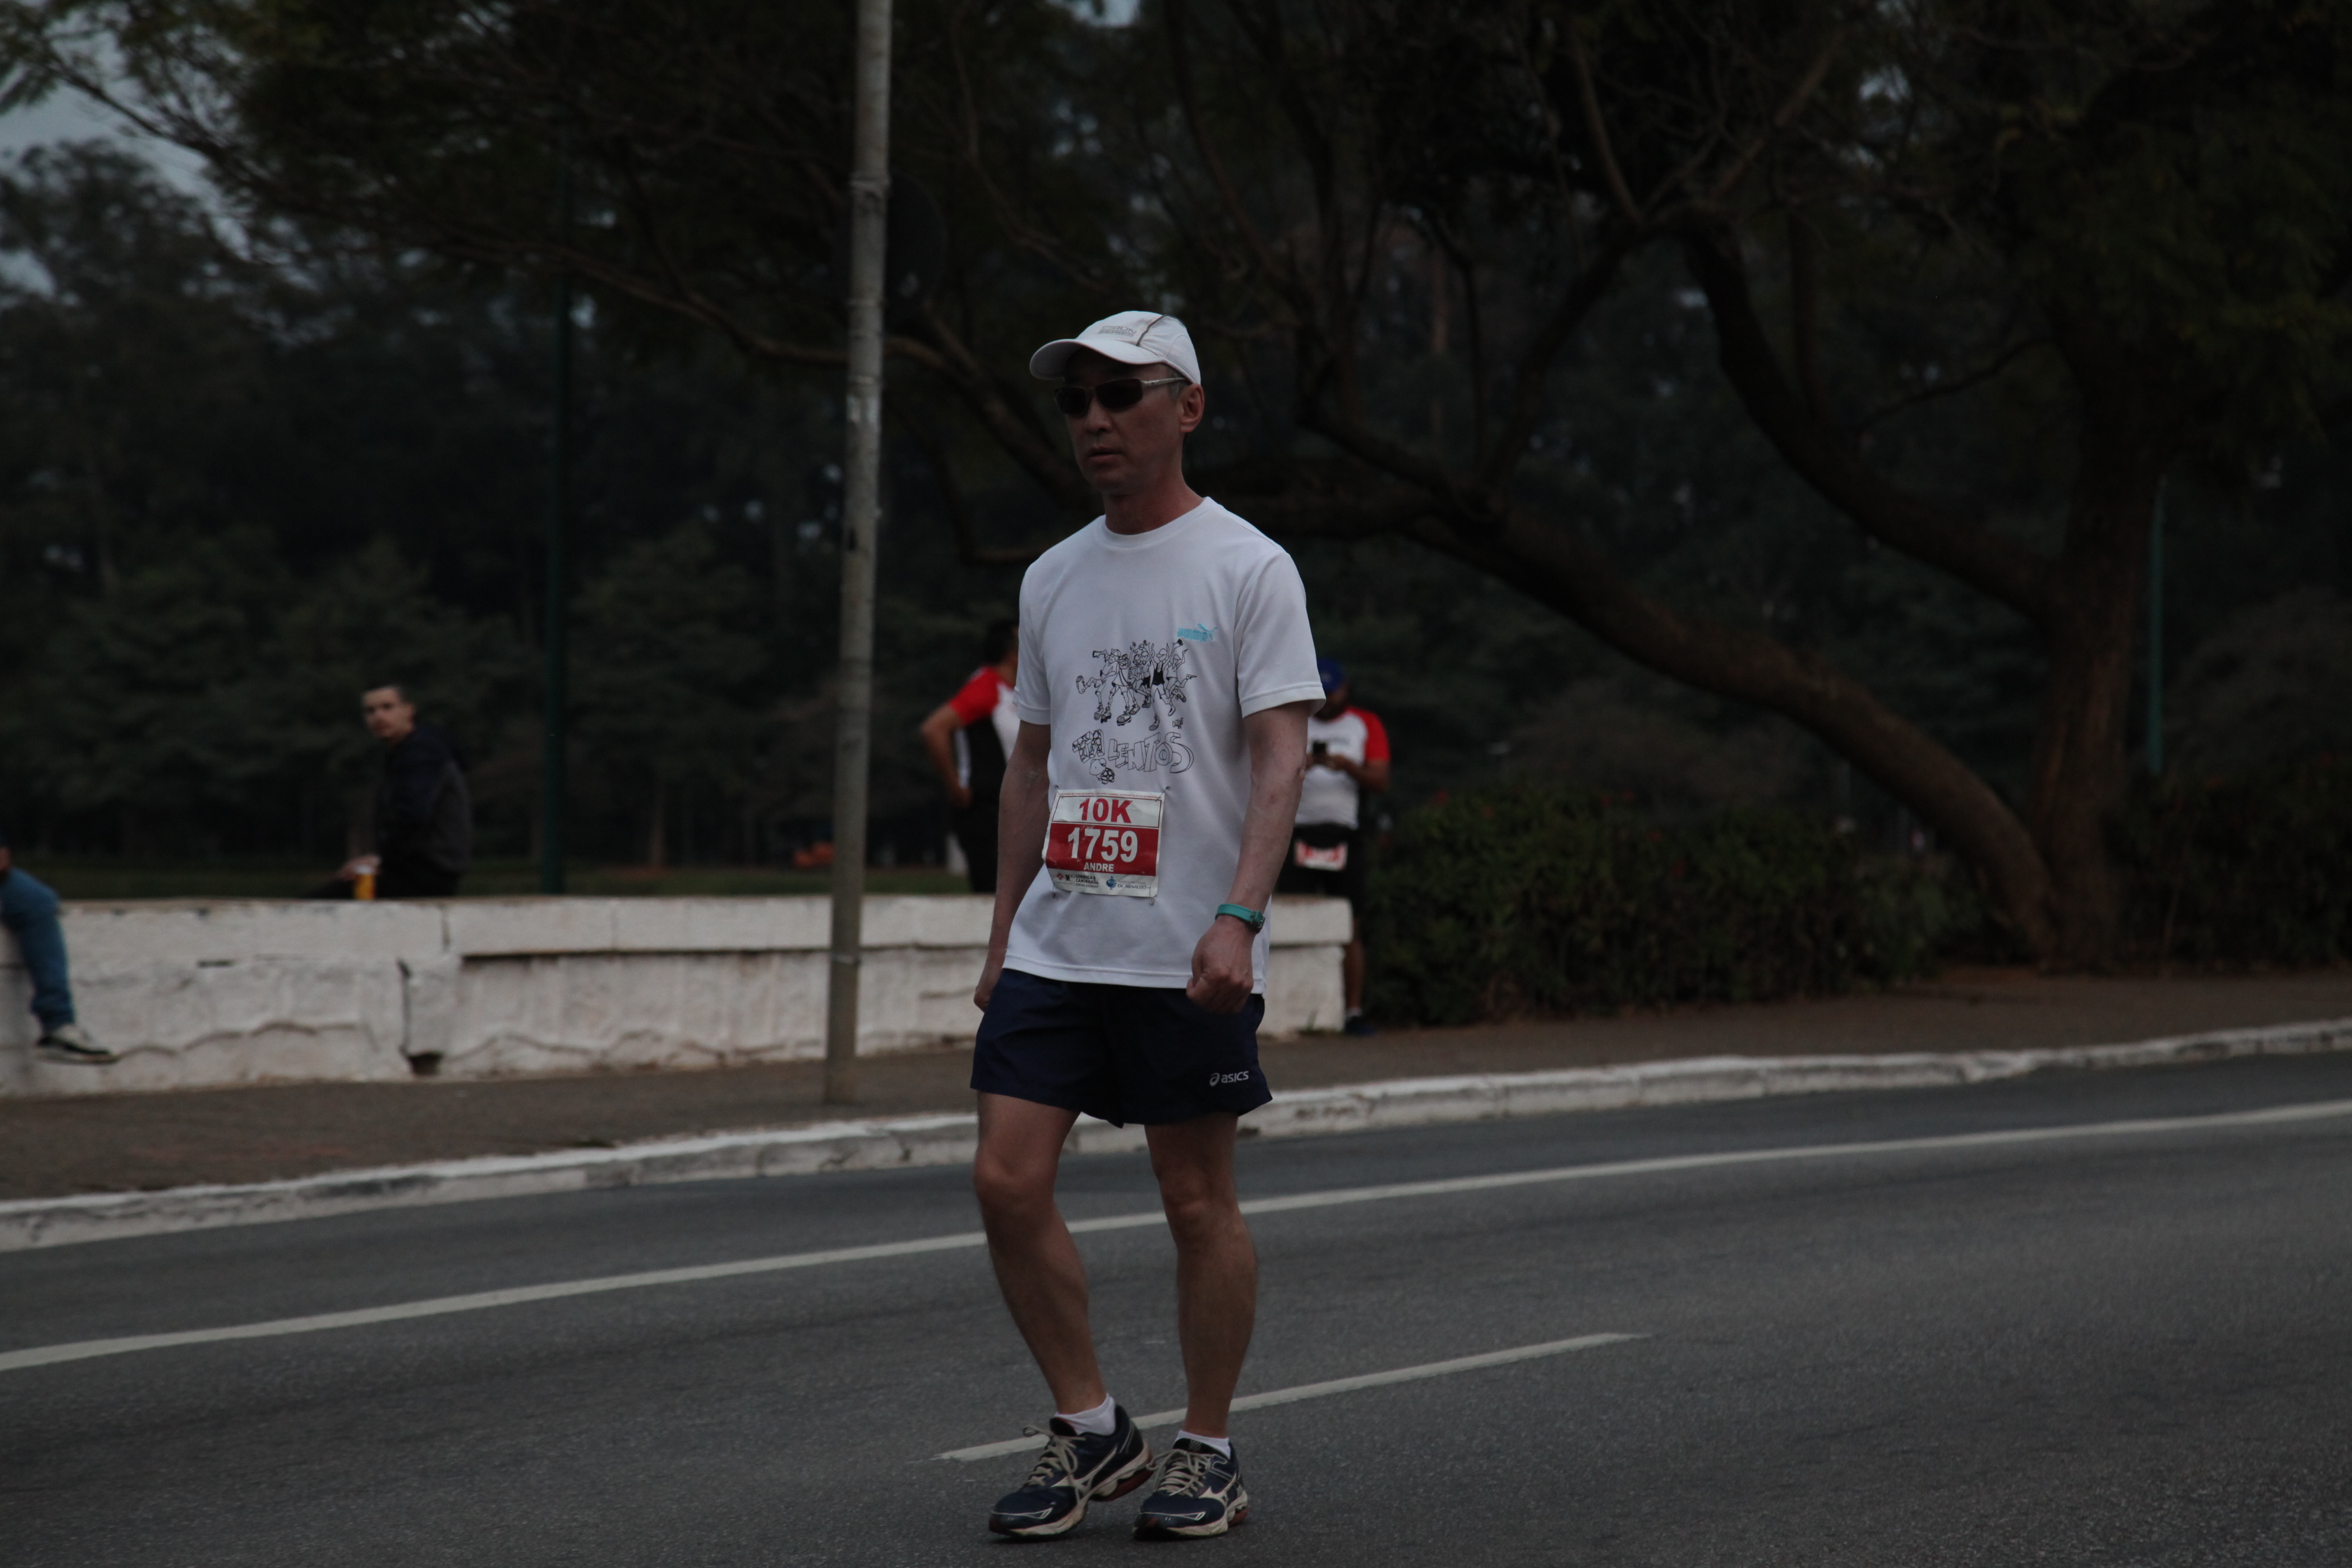bibtag: (1039, 775, 1171, 910)
